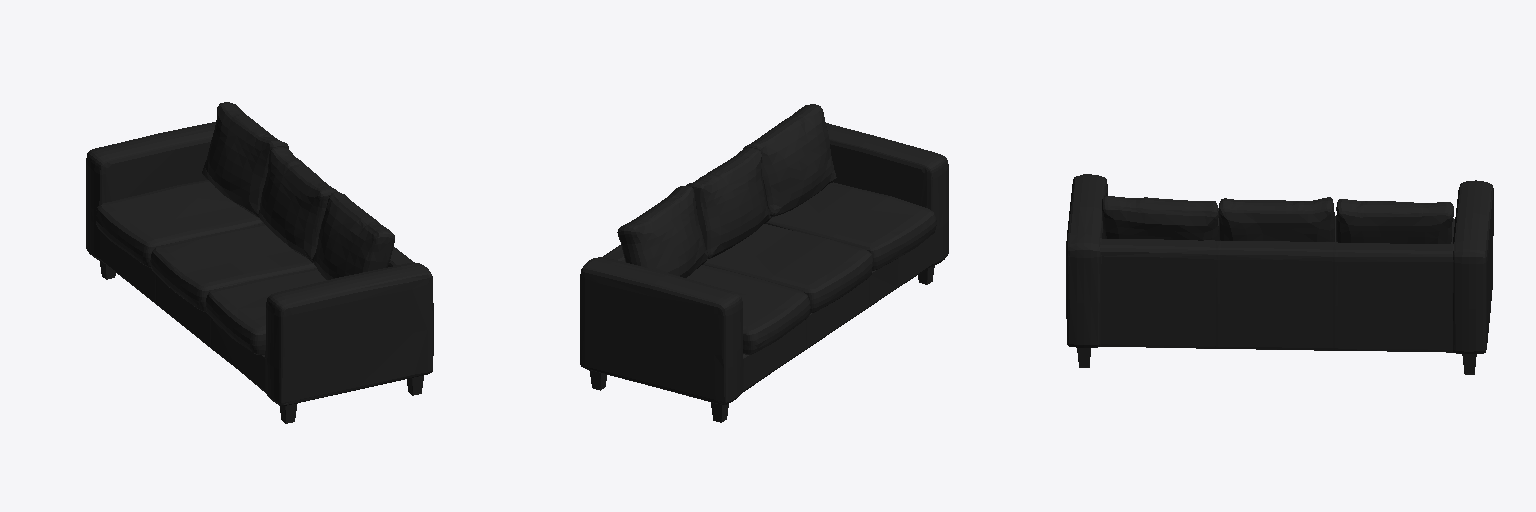
The model's file is Long_Couch.obj.
3 views of the same model, side by side, from view 1: azimuth 30°, elevation 25°; view 2: azimuth 150°, elevation 25°; view 3: azimuth 270°, elevation 25° (orthographic).
Visible parts, largest first — view 1: Couch_13_SM_Couch; view 2: Couch_13_SM_Couch; view 3: Couch_13_SM_Couch.
Boxes of the visible parts, x1,y1,x2,y2 form: Couch_13_SM_Couch: [86, 102, 433, 423]; Couch_13_SM_Couch: [580, 104, 948, 422]; Couch_13_SM_Couch: [1066, 174, 1493, 374].
Size of the model in its own units: 0.963 by 0.8456 by 2.04.